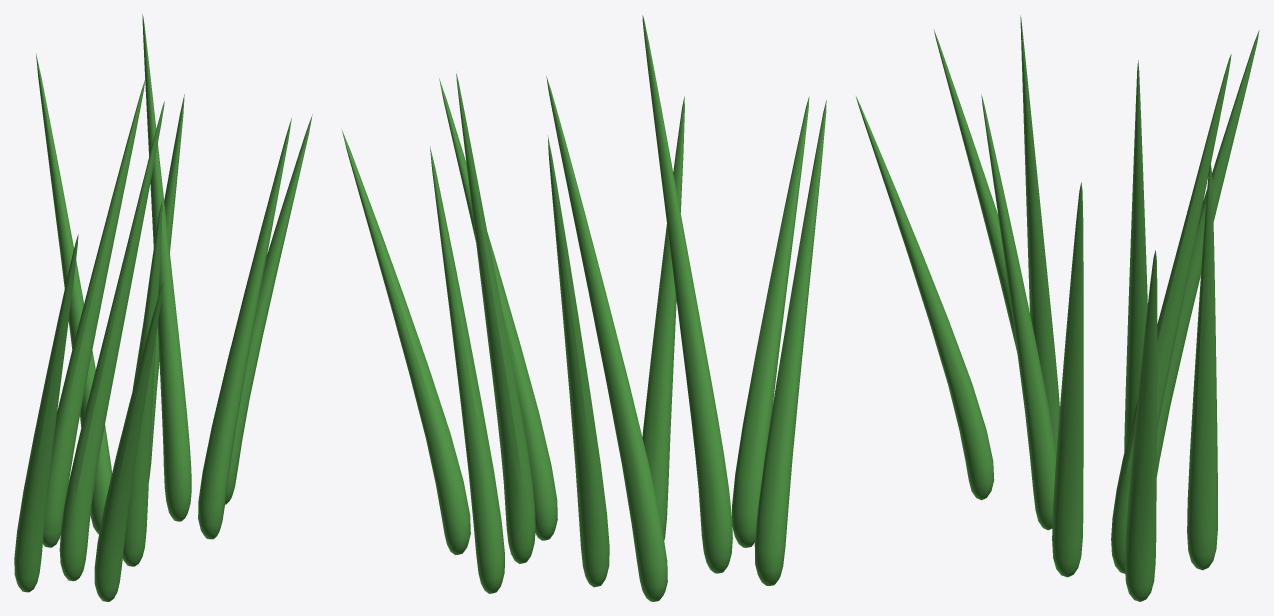
The model's file is Grass 2.fbx.
3 views of the same model, side by side, from view 1: azimuth 30°, elevation 25°; view 2: azimuth 150°, elevation 25°; view 3: azimuth 270°, elevation 25° (orthographic). The views are drawn at different scales.
Visible parts, largest first — view 1: Cube, Cube_1_3, Cube_4, Cube_2_3, Cube_1_4; view 2: Cube, Cube_4, Cube_1_4, Cube_2_3, Cube_1_3; view 3: Cube, Cube_1_4, Cube_1_3, Cube_2_3, Cube_4.
Boxes of the visible parts, x1=… form: Cube: x1=14, y1=14, x2=191, y2=601; Cube_1_3: x1=198, y1=117, x2=291, y2=539; Cube_4: x1=36, y1=53, x2=111, y2=534; Cube_2_3: x1=225, y1=114, x2=312, y2=504; Cube_1_4: x1=132, y1=94, x2=184, y2=480; Cube: x1=456, y1=15, x2=826, y2=601; Cube_4: x1=547, y1=135, x2=609, y2=587; Cube_1_4: x1=430, y1=146, x2=504, y2=593; Cube_2_3: x1=341, y1=129, x2=470, y2=554; Cube_1_3: x1=439, y1=78, x2=557, y2=540; Cube: x1=856, y1=15, x2=1231, y2=573; Cube_1_4: x1=1187, y1=162, x2=1217, y2=570; Cube_1_3: x1=1052, y1=182, x2=1083, y2=577; Cube_2_3: x1=1125, y1=250, x2=1157, y2=601; Cube_4: x1=1156, y1=30, x2=1259, y2=476.
Size of the model in its own units: 64.04 by 83.36 by 57.95.
